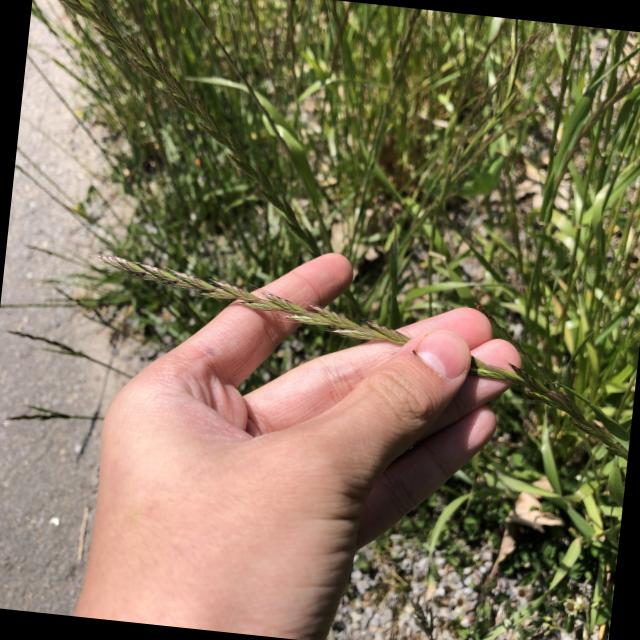Lolium: (74, 245, 640, 462)
